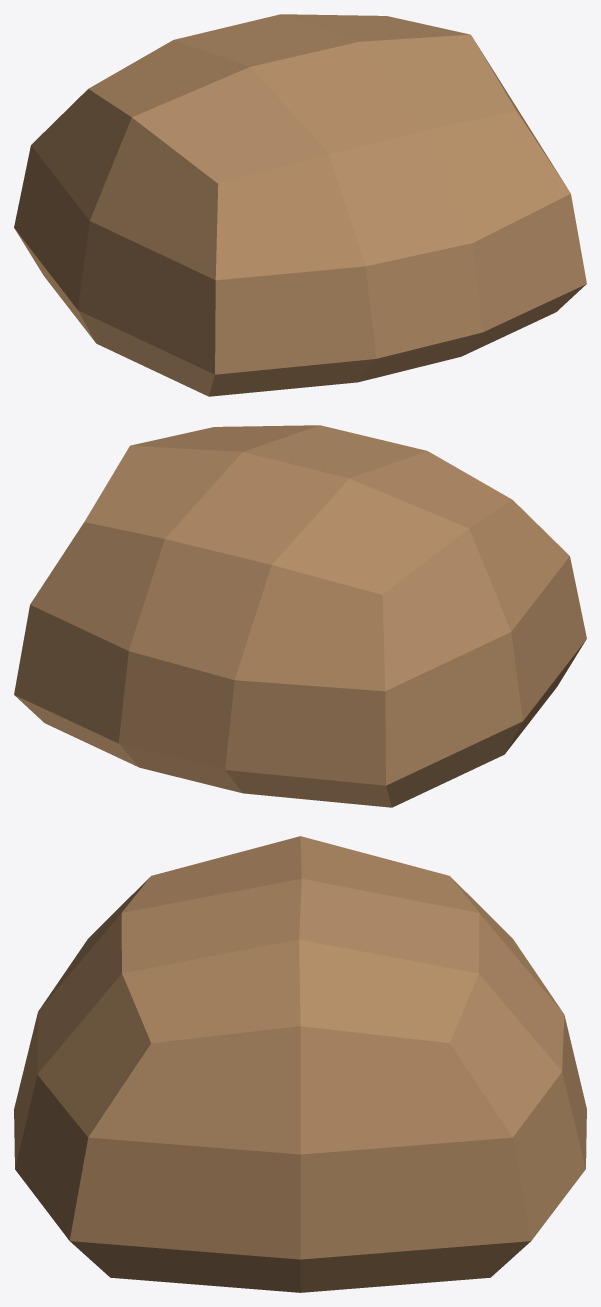
File: SM_bread_02.fbx
3 renders of one model, top to bottom at view 1: azimuth 30°, elevation 25°; view 2: azimuth 150°, elevation 25°; view 3: azimuth 270°, elevation 25°, orthographic. The views are drawn at different scales.
Parts seen in each view (by area): view 1: Box112; view 2: Box112; view 3: Box112.
Part boxes in pixels (left/top/right/bottom): Box112: left=14, top=14, right=586, bottom=396; Box112: left=14, top=425, right=586, bottom=807; Box112: left=14, top=836, right=586, bottom=1292.
Size of the model in its own units: 15.26 by 7.89 by 14.93.
